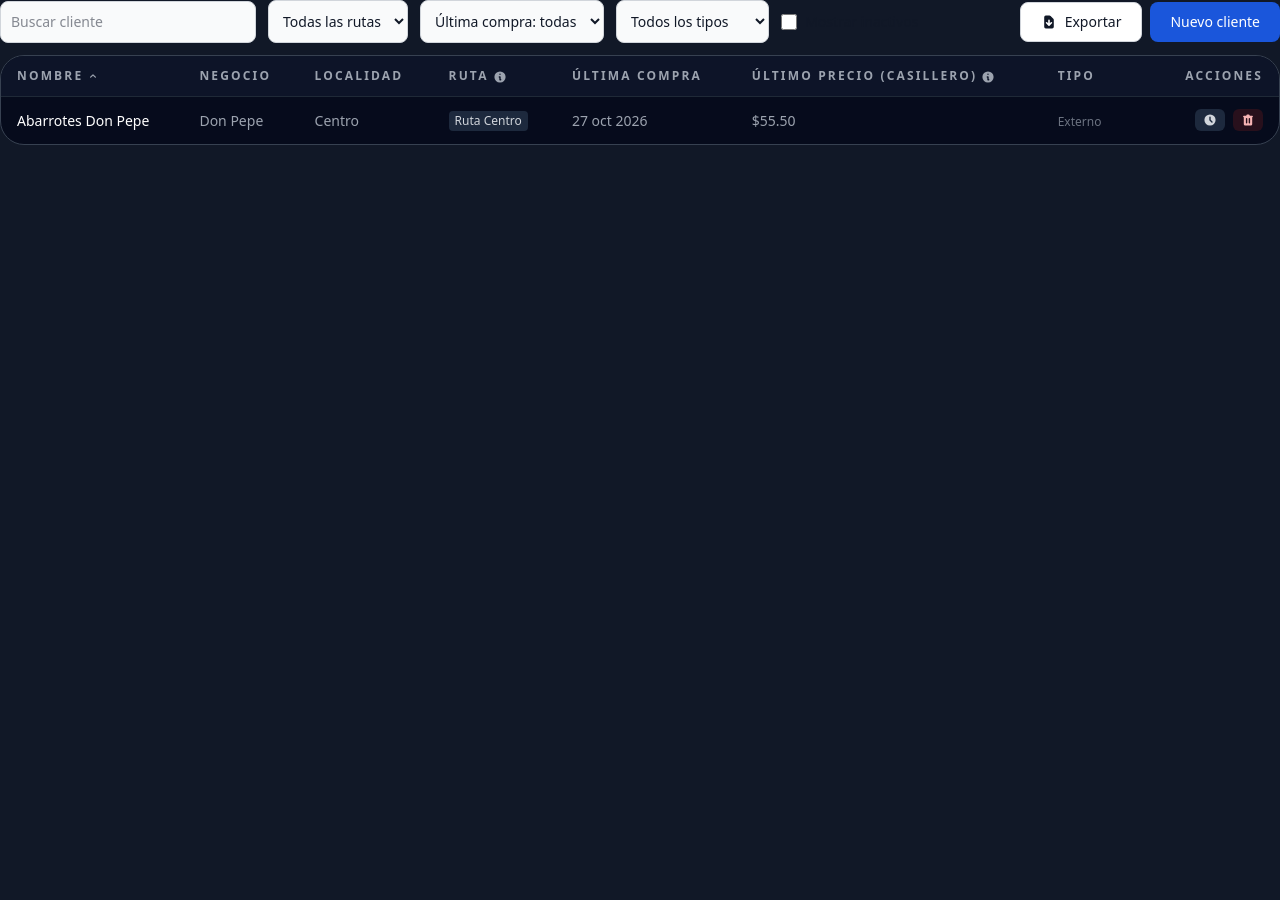
Scenario: ClientsTab › abre el historial de compras del cliente
Click the button titled "Historial". click: (1210, 120)
box: [1195, 109, 1225, 131]
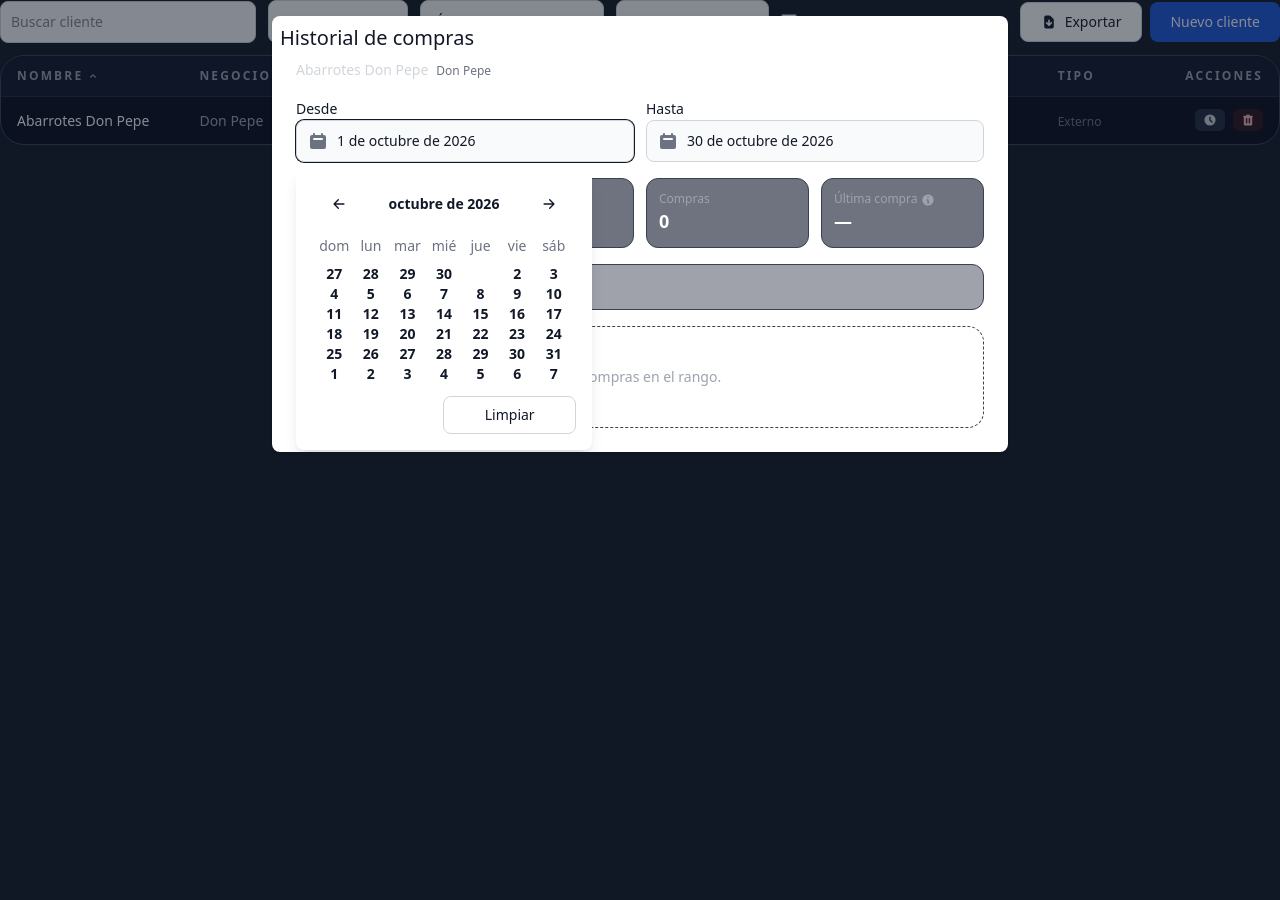
Result: the heading "Historial de compras" is shown at [280, 24, 474, 52]
